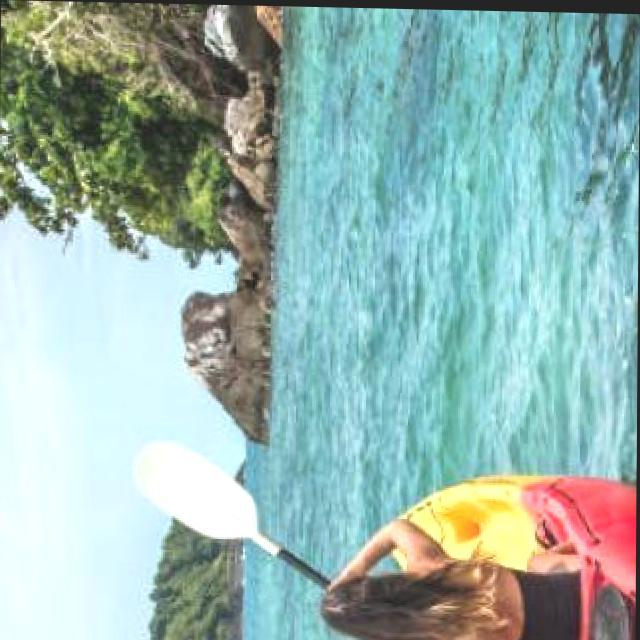kayak: (402, 475, 637, 640)
